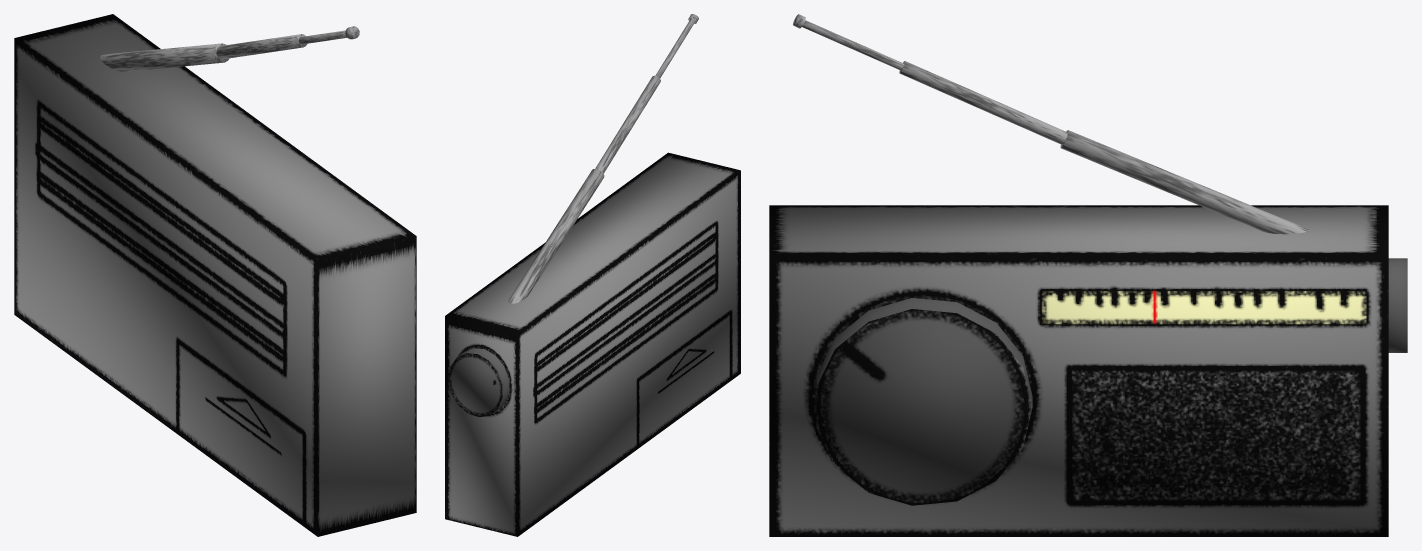
The model's file is Radio.obj.
3 renders of one model, left to right at view 1: azimuth 30°, elevation 25°; view 2: azimuth 150°, elevation 25°; view 3: azimuth 270°, elevation 25°, orthographic. The views are drawn at different scales.
Visible parts, largest first — view 1: radio; view 2: radio; view 3: radio.
Part boxes in pixels (<box>): radio: <box>14,14,416,536</box>; radio: <box>445,14,740,536</box>; radio: <box>769,14,1407,536</box>.
Bounding box in the file's own units: 0.4608 × 1.77 × 2.06.
